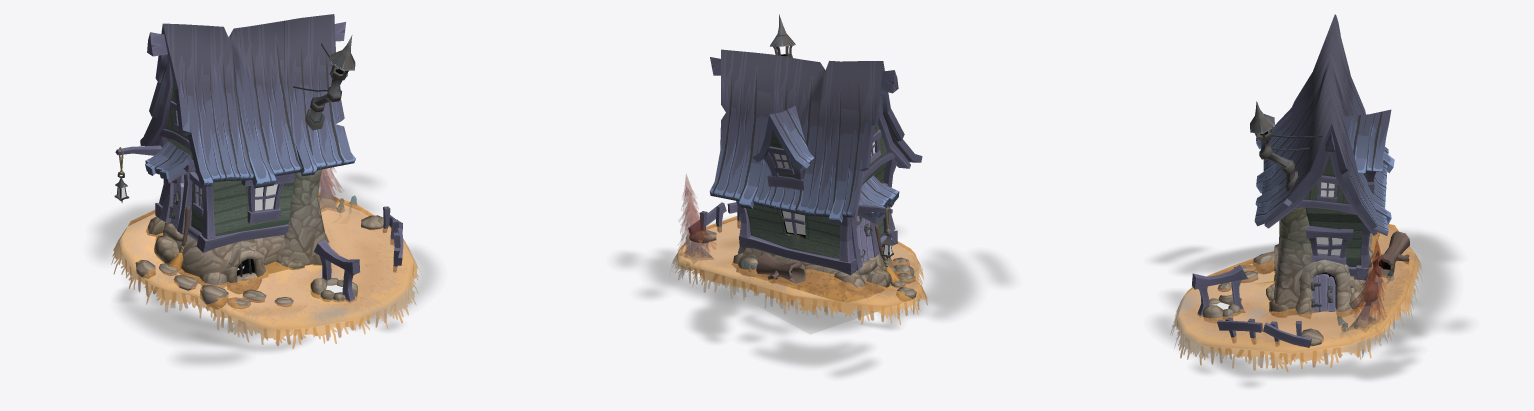
File: Cabin_On_The_Edge.glb
The picture shows the model from 3 angles, left to right: view 1: azimuth 30°, elevation 25°; view 2: azimuth 150°, elevation 25°; view 3: azimuth 270°, elevation 25°; orthographic projection. The views are drawn at different scales.
Visible parts, largest first — view 1: polySurface634_Roof_0, polySurface605_GroundGrass_0, FogTop_Fog_0, polySurface571_GroundDirt_0, polySurface316_BaseRock_0, polySurface494_Wood_0, polySurface558_BaseRock_0, pPlane7_Fog_0, polySurface243_Metal_0, polySurface623_Wood_0, polySurface325_Wood_0, polySurface614_Roof_0 (+11 smaller); view 2: polySurface634_Roof_0, FogTop_Fog_0, polySurface605_GroundGrass_0, polySurface571_GroundDirt_0, pPlane7_Fog_0, polySurface527_Wood_0, polySurface558_BaseRock_0, polySurface611_Roof_0, polySurface490_Wood_0, polySurface626_Foliage_0, polySurface579_Wood_0, polySurface539_Wood_0 (+12 smaller); view 3: polySurface605_GroundGrass_0, FogTop_Fog_0, polySurface634_Roof_0, polySurface571_GroundDirt_0, pPlane7_Fog_0, polySurface316_BaseRock_0, polySurface611_Roof_0, polySurface235_BaseRock_0, polySurface528_Wood_0, polySurface243_Metal_0, polySurface579_Wood_0, polySurface363_Wood_0 (+14 smaller).
Part boxes in pixels (x1,y1,x2,y2): polySurface634_Roof_0: (140, 14, 355, 188); polySurface605_GroundGrass_0: (111, 192, 419, 348); FogTop_Fog_0: (90, 173, 440, 366); polySurface571_GroundDirt_0: (119, 197, 413, 328); polySurface316_BaseRock_0: (278, 169, 326, 269); polySurface494_Wood_0: (213, 172, 296, 236); polySurface558_BaseRock_0: (155, 222, 285, 283); pPlane7_Fog_0: (116, 287, 402, 352); polySurface243_Metal_0: (293, 35, 355, 130); polySurface623_Wood_0: (314, 240, 360, 302); polySurface325_Wood_0: (241, 173, 294, 223); polySurface614_Roof_0: (145, 141, 191, 179); polySurface634_Roof_0: (709, 49, 922, 223); FogTop_Fog_0: (613, 219, 1014, 332); polySurface605_GroundGrass_0: (672, 216, 927, 324); polySurface571_GroundDirt_0: (678, 220, 921, 334); pPlane7_Fog_0: (688, 287, 926, 378); polySurface527_Wood_0: (746, 204, 840, 258); polySurface558_BaseRock_0: (736, 247, 891, 301); polySurface611_Roof_0: (752, 106, 813, 167); polySurface490_Wood_0: (739, 235, 856, 275); polySurface626_Foliage_0: (678, 174, 755, 277); polySurface579_Wood_0: (736, 171, 864, 262); polySurface539_Wood_0: (763, 146, 805, 190); polySurface605_GroundGrass_0: (1170, 224, 1421, 372); FogTop_Fog_0: (1151, 230, 1471, 367); polySurface634_Roof_0: (1254, 15, 1394, 235); polySurface571_GroundDirt_0: (1177, 229, 1415, 352); pPlane7_Fog_0: (1191, 301, 1423, 388); polySurface316_BaseRock_0: (1273, 207, 1317, 315); polySurface611_Roof_0: (1343, 109, 1391, 172); polySurface235_BaseRock_0: (1295, 259, 1359, 318); polySurface528_Wood_0: (1305, 207, 1363, 266); polySurface243_Metal_0: (1250, 101, 1322, 191); polySurface579_Wood_0: (1264, 149, 1376, 268); polySurface363_Wood_0: (1305, 225, 1353, 264).
Bounding box in the file's own units: 153 × 122 × 160.
Materials: 9 (7 with a texture image).
